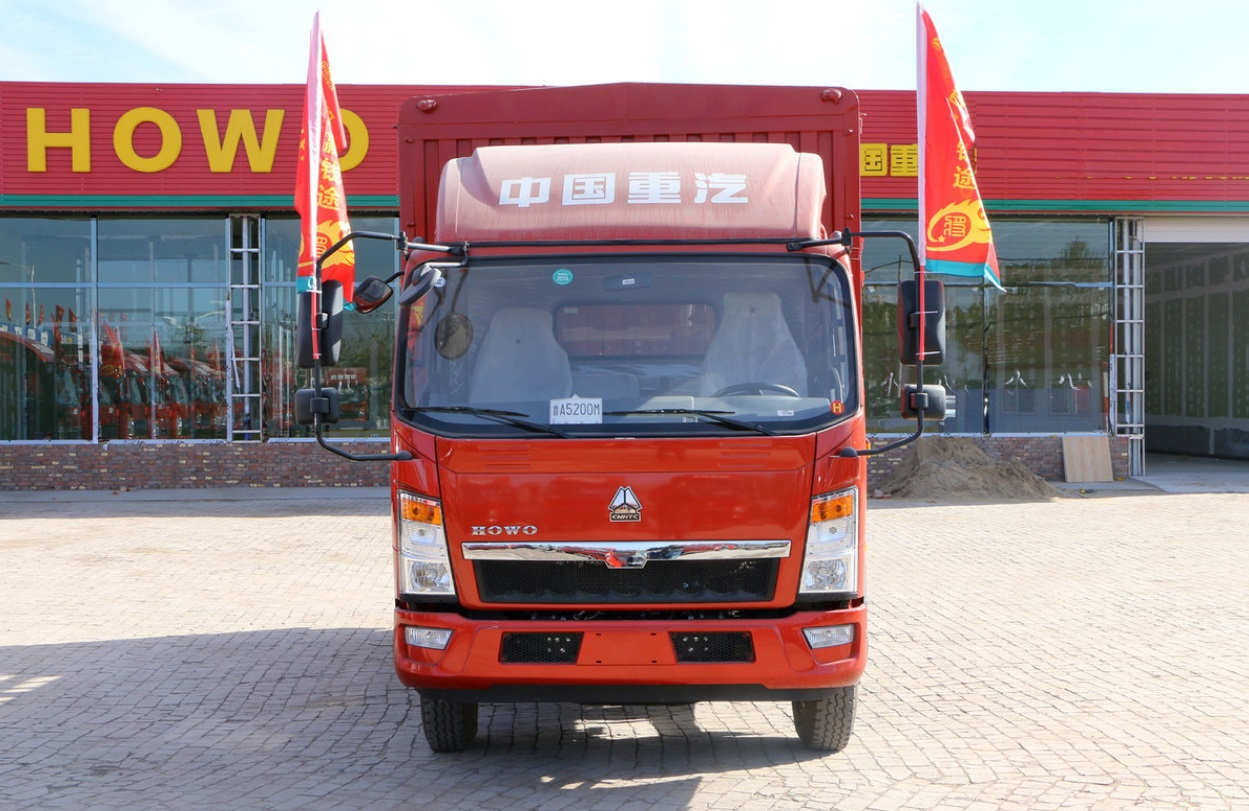truck: (302, 77, 947, 756)
